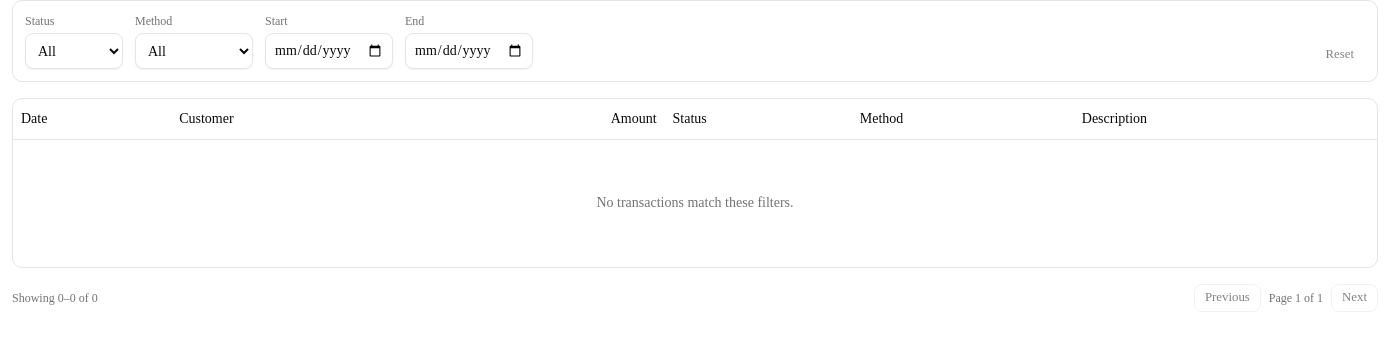
Scenario: TransactionsTable › blocks the fetch and shows an inline error when end date precedes start date
Type "2026-05-10" into the date field labelled "Start" at (329, 51), box left=265, top=33, right=393, bottom=69
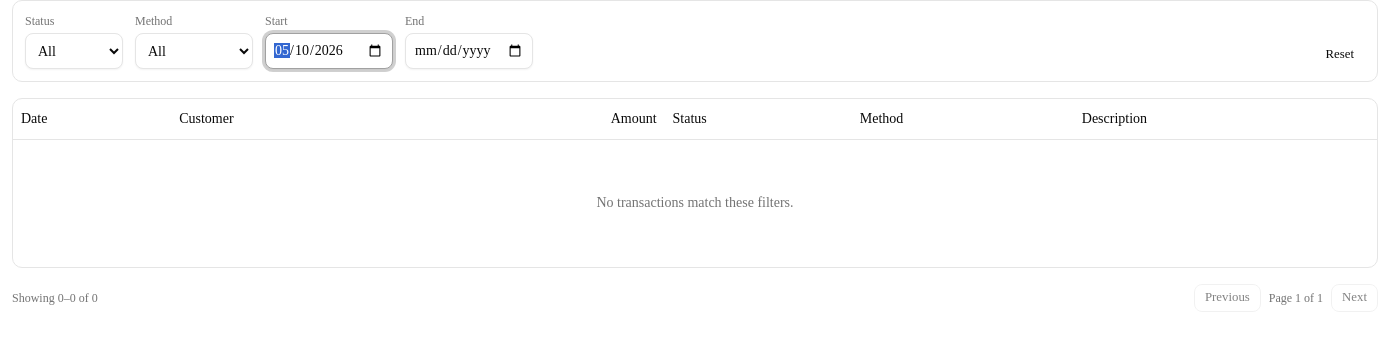
Type "2026-05-01" into the date field labelled "End" at (469, 51), box left=405, top=33, right=533, bottom=69
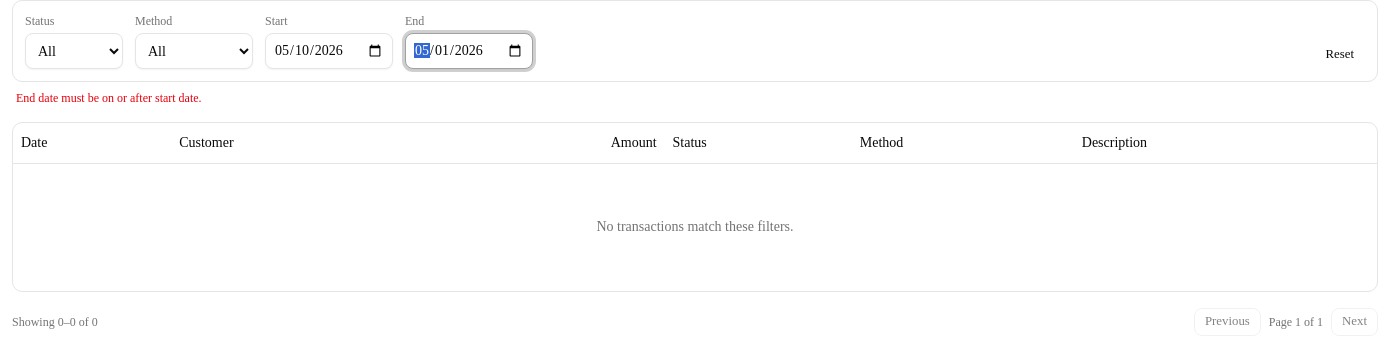
Expected: the text "End date must be on or after start date." is shown, left=16, top=91, right=202, bottom=105
